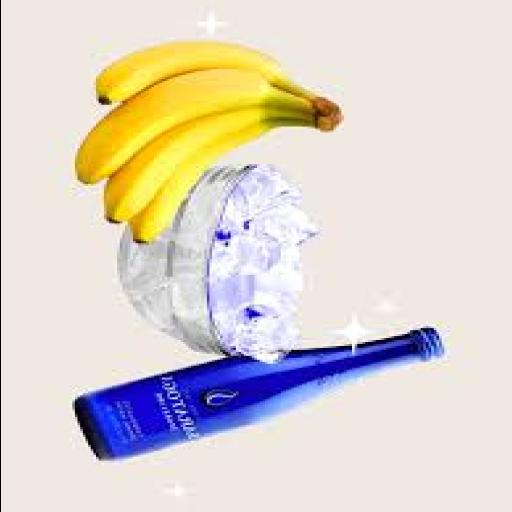blue-bottle: (77, 328, 441, 461)
